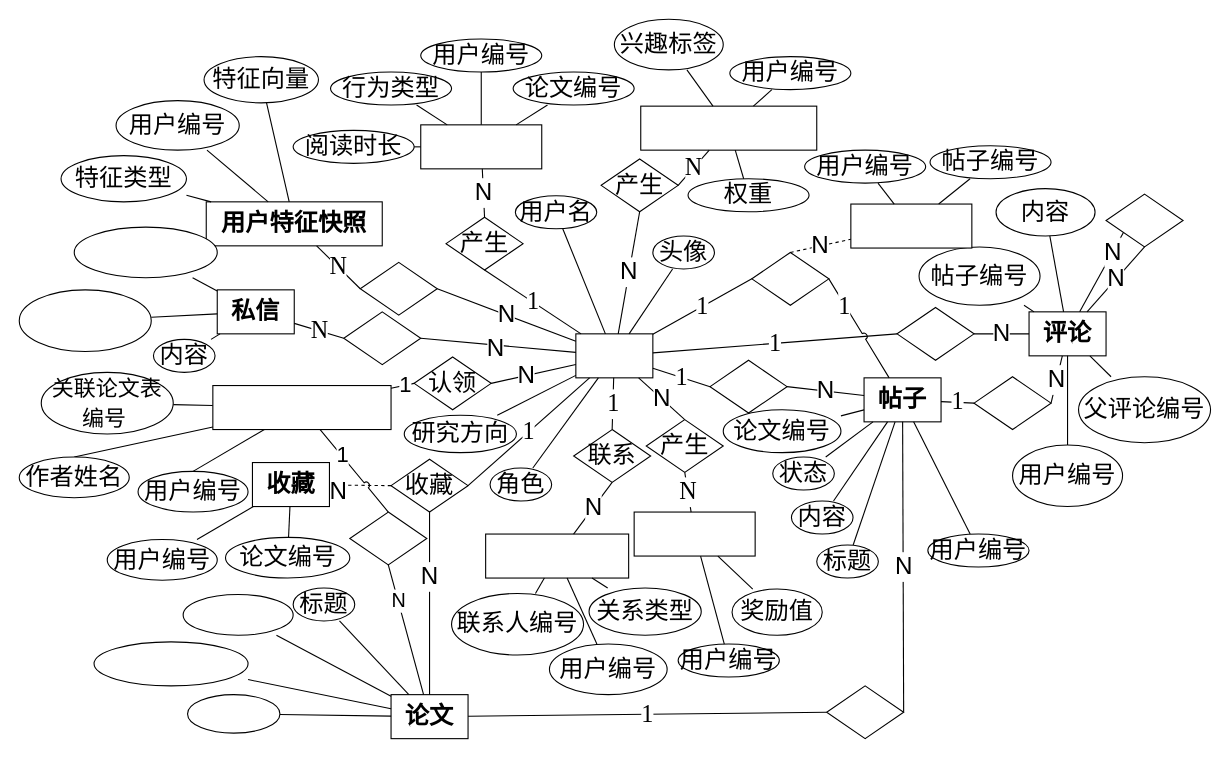
The diagram is 1230 pixels wide and 758 high, and some of its shapes have lost their labels. Each missing label, with the centre of its shape:
"AMiner编号" belongs at (170,663).
"关联" belongs at (865,712).
"关键词" belongs at (233,713).
"发出" belongs at (935,333).
"发布" belongs at (748,386).
"发送" belongs at (382,338).
"发送者编号" belongs at (84,320).
"备份" belongs at (398,288).
"对应" belongs at (388,538).
"嵌套" belongs at (1144,220).
"帖子点赞" belongs at (911,225).
"接收者编号" belongs at (145,252).
"收录" belongs at (1012,403).
"点赞" belongs at (790,278).
"用户" belongs at (614,355).
"用户兴趣历史" belongs at (728,127).
"用户联系人" belongs at (557,555).
"行为日志" belongs at (481,146).
"被引次数" belongs at (237,614).
"训练日志" belongs at (694,533).
"论文作者记录" belongs at (301,407).
